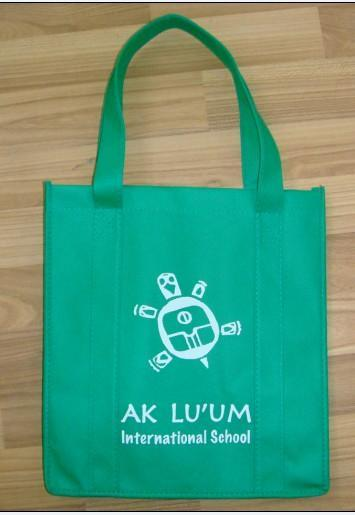flexible: (41, 15, 332, 498)
